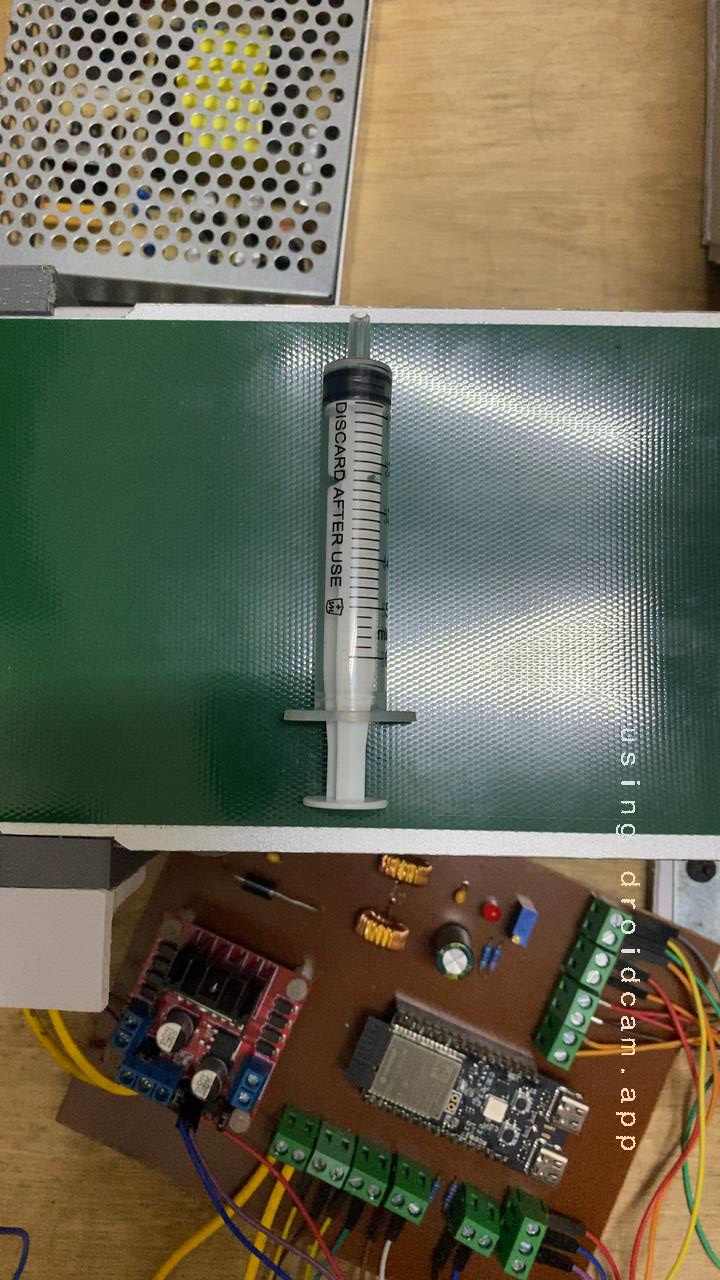syringe: (213, 349, 480, 827)
